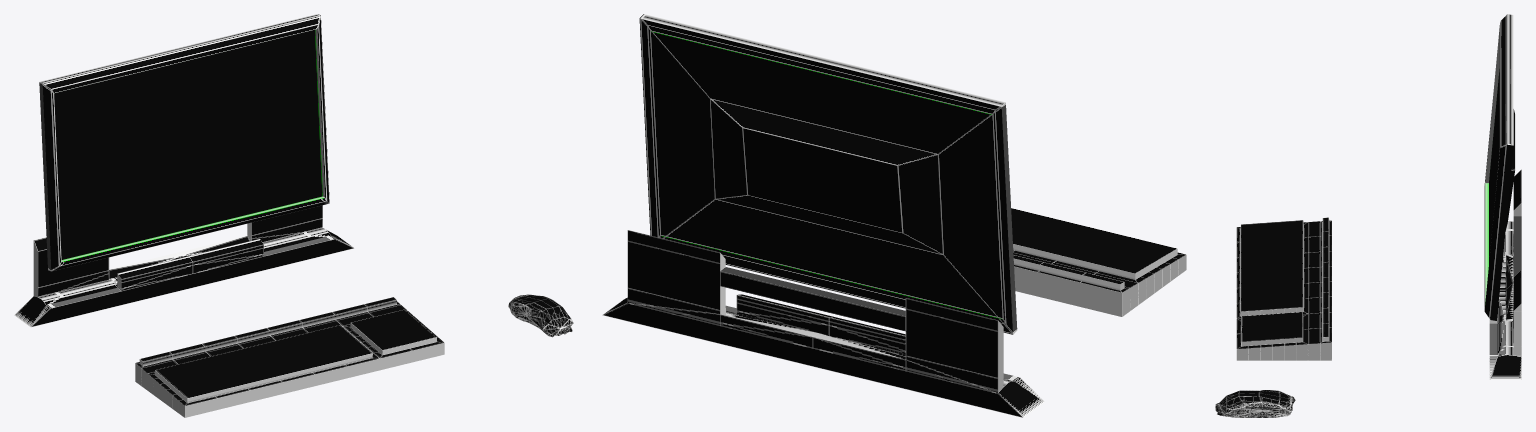
Rendered from gaming periphery.FBX.
3 renders of one model, left to right at view 1: azimuth 30°, elevation 25°; view 2: azimuth 150°, elevation 25°; view 3: azimuth 270°, elevation 25°, orthographic. The views are drawn at different scales.
Parts seen in each view (by area): view 1: Box001; view 2: Box001; view 3: Box001.
Part boxes in pixels (x1,y1,x2,y2): Box001: [14, 14, 573, 417]; Box001: [602, 14, 1186, 417]; Box001: [1215, 14, 1521, 417].
Size of the model in its own units: 76.97 by 52.16 by 42.04.
1 material, 1 textured.
